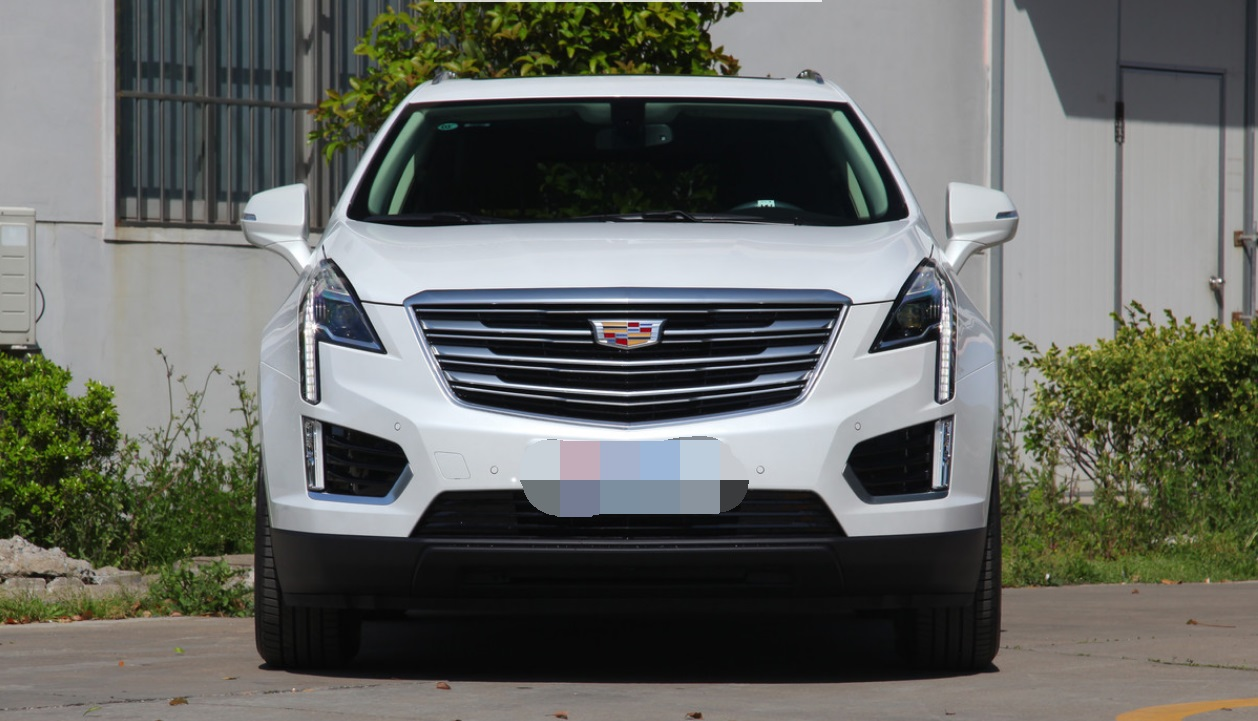SUV: (237, 64, 1026, 671)
